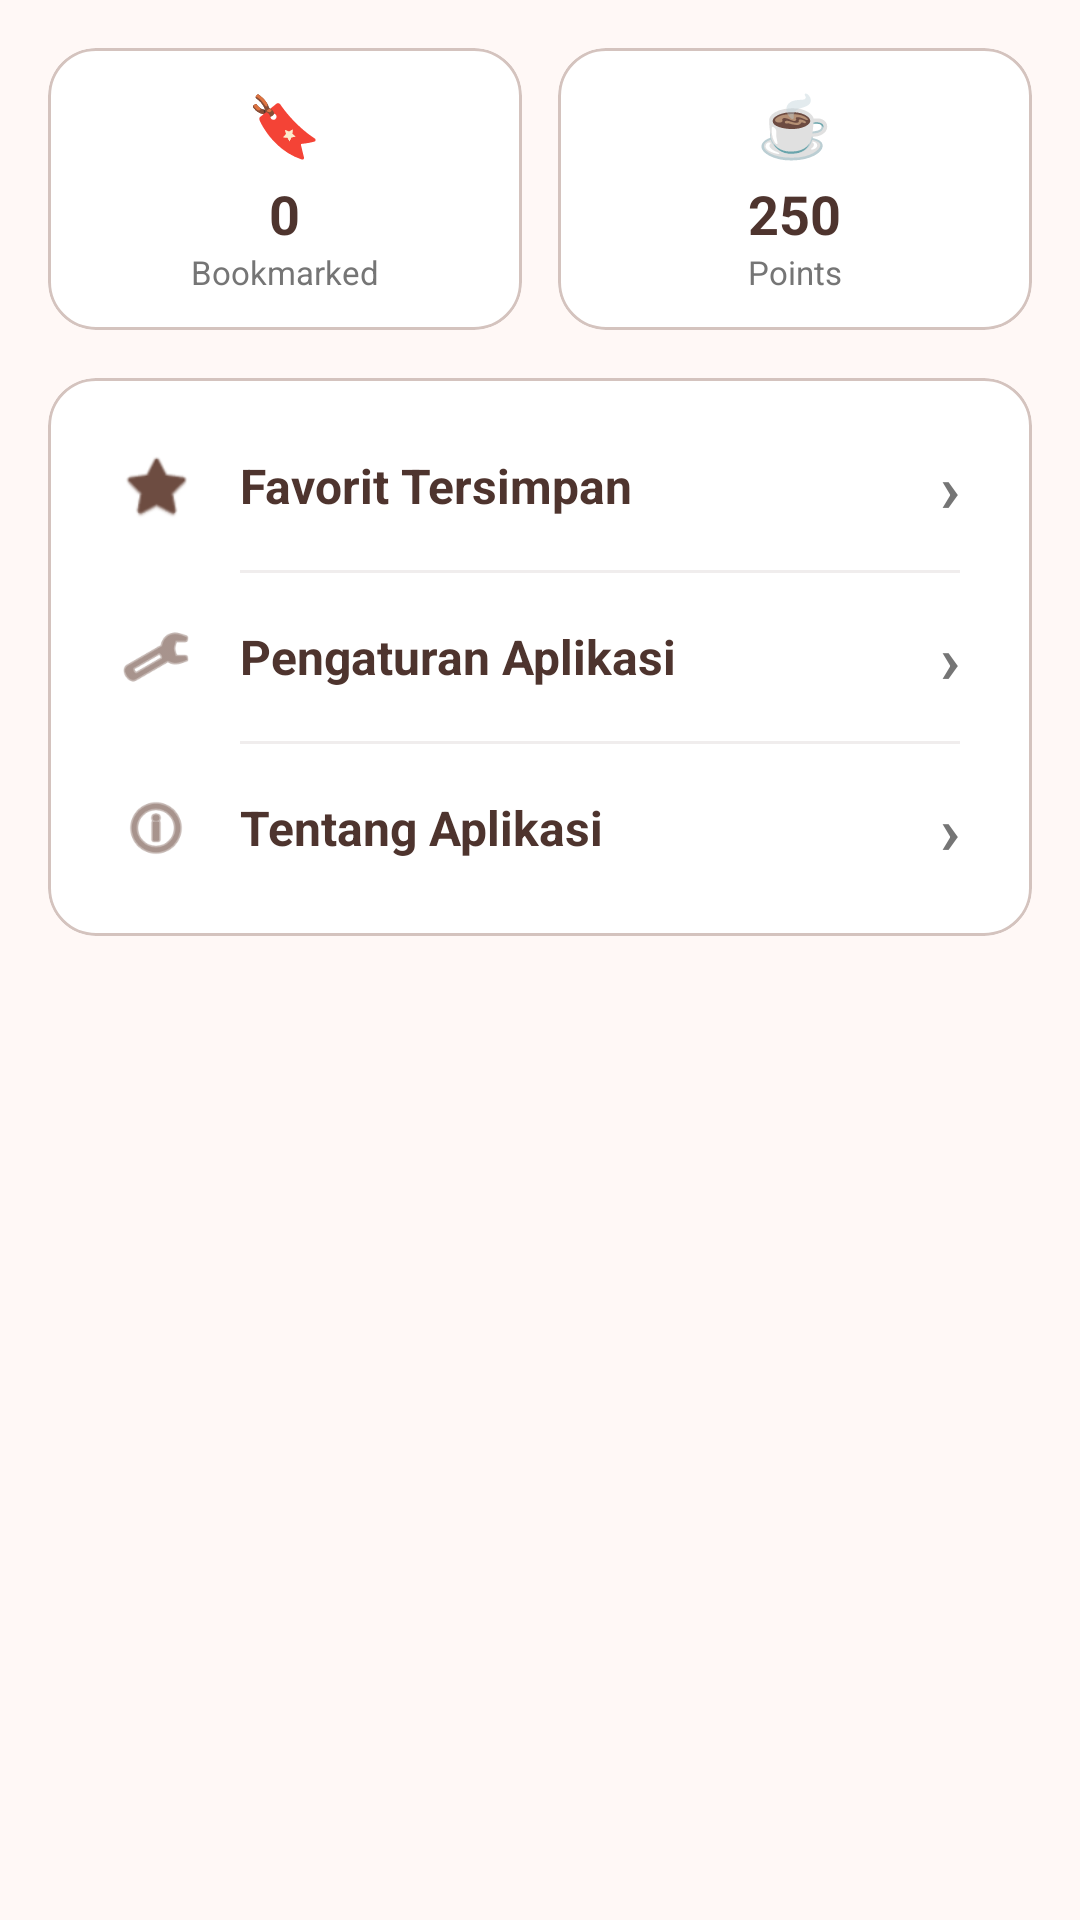

Icon bounding boxes for this 1080px x 1920px phone screenshot, format (x1, y1, x2, y2):
info details: (130, 802, 182, 854)
manage: (124, 632, 188, 682)
star on: (127, 457, 187, 516)
